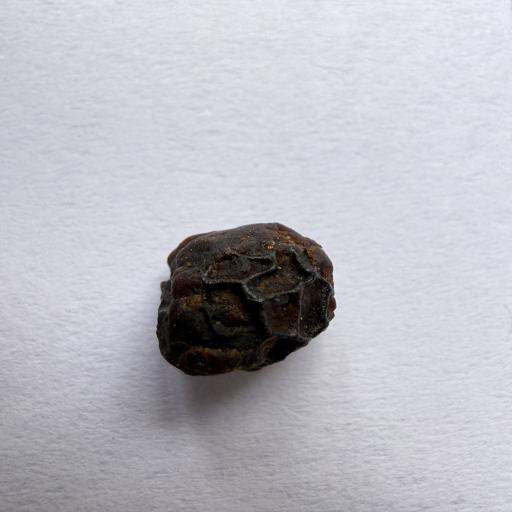Black_pepper: (132, 213, 349, 402)
